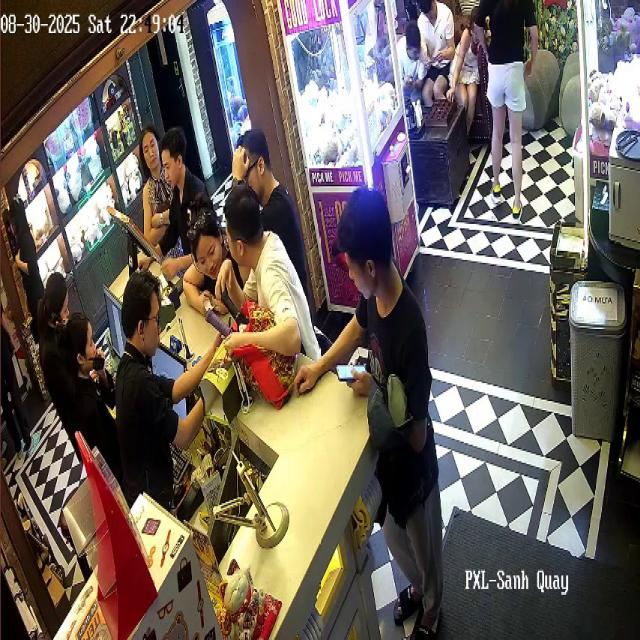khach: (336, 188, 449, 630), (474, 4, 545, 230), (230, 198, 312, 351), (238, 123, 308, 238), (134, 115, 185, 240), (166, 130, 210, 236), (415, 4, 465, 92), (190, 206, 232, 301), (397, 23, 438, 107)
nhan vien: (124, 281, 210, 502), (62, 308, 106, 422), (12, 196, 45, 341), (42, 263, 65, 346)
